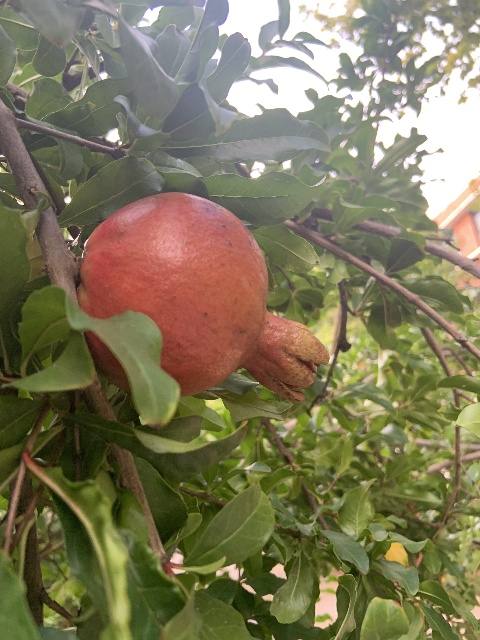ripe: (76, 192, 330, 403)
